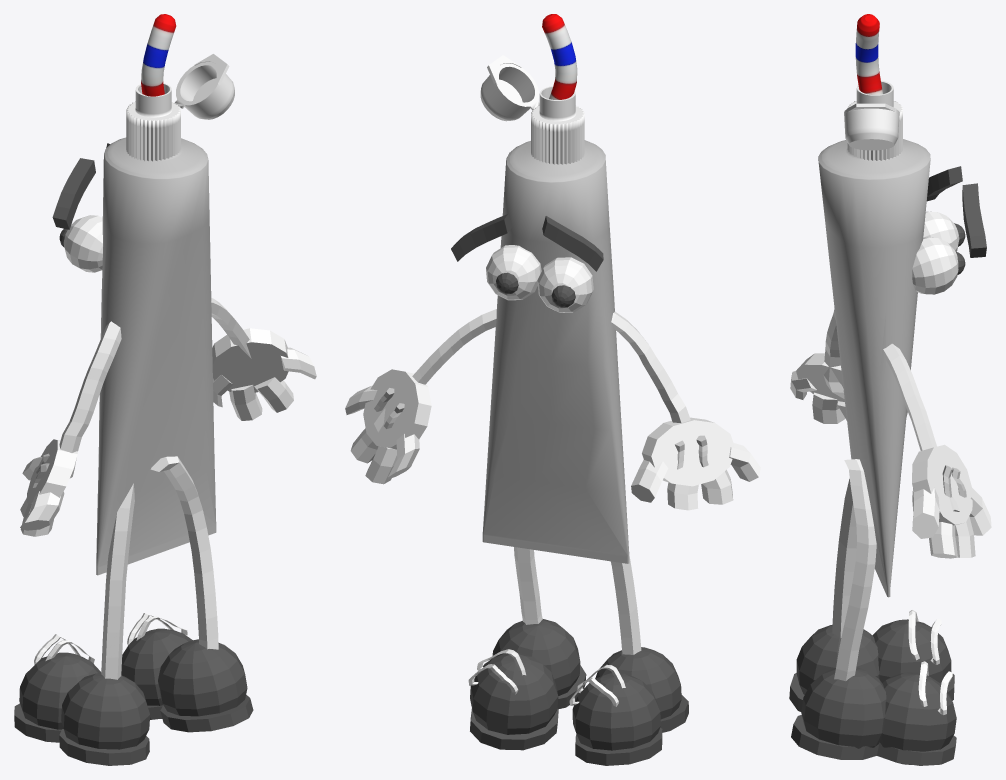
The model's file is macunn2.fbx.
3 views of the same model, side by side, from view 1: azimuth 30°, elevation 25°; view 2: azimuth 150°, elevation 25°; view 3: azimuth 270°, elevation 25° (orthographic). The views are drawn at different scales.
Parts seen in each view (by area): view 1: Loft01, group_1271726261, group_911610836, group_1092254099, Loft02, group_913153934, group_1553115037, group_1081606240, mesh_605939537, Loft03, group_656011443; view 2: Loft01, group_911610836, group_1271726261, group_913153934, group_1092254099, Loft02, group_656011443, mesh_605939537, mesh_2067250013, Loft03, group_1081606240, group_1553115037; view 3: Loft01, group_911610836, group_1092254099, group_1271726261, group_1553115037, Loft02, group_913153934, group_1081606240, mesh_2067250013, group_656011443, Loft03, mesh_605939537.
Boxes of the visible parts, x1,y1,x2,y2 form: Loft01: (96, 137, 216, 575); group_1271726261: (14, 634, 150, 765); group_911610836: (121, 613, 253, 732); group_1092254099: (211, 298, 316, 420); Loft02: (126, 54, 234, 161); group_913153934: (20, 321, 121, 536); group_1553115037: (150, 456, 218, 649); group_1081606240: (101, 483, 134, 679); mesh_605939537: (63, 215, 102, 272); Loft03: (141, 14, 176, 96); group_656011443: (52, 143, 110, 229); Loft01: (482, 140, 629, 563); group_911610836: (468, 619, 586, 750); group_1271726261: (569, 647, 688, 765); group_913153934: (611, 311, 760, 510); group_1092254099: (345, 309, 496, 484); Loft02: (480, 55, 584, 164); group_656011443: (451, 213, 603, 271); mesh_605939537: (537, 257, 593, 312); mesh_2067250013: (486, 245, 541, 300); Loft03: (542, 14, 577, 99); group_1081606240: (610, 556, 641, 654); group_1553115037: (514, 547, 542, 624); Loft01: (818, 139, 930, 597); group_911610836: (791, 661, 956, 765); group_1092254099: (883, 343, 991, 558); group_1271726261: (789, 610, 954, 711); group_1553115037: (834, 459, 876, 681); Loft02: (844, 80, 902, 160); group_913153934: (790, 308, 907, 423); group_1081606240: (832, 479, 856, 638); mesh_2067250013: (912, 237, 958, 294); group_656011443: (926, 166, 986, 257); Loft03: (855, 14, 882, 94); mesh_605939537: (923, 211, 959, 251).
Bounding box in the file's own units: 9.3 × 18.08 × 4.51.
